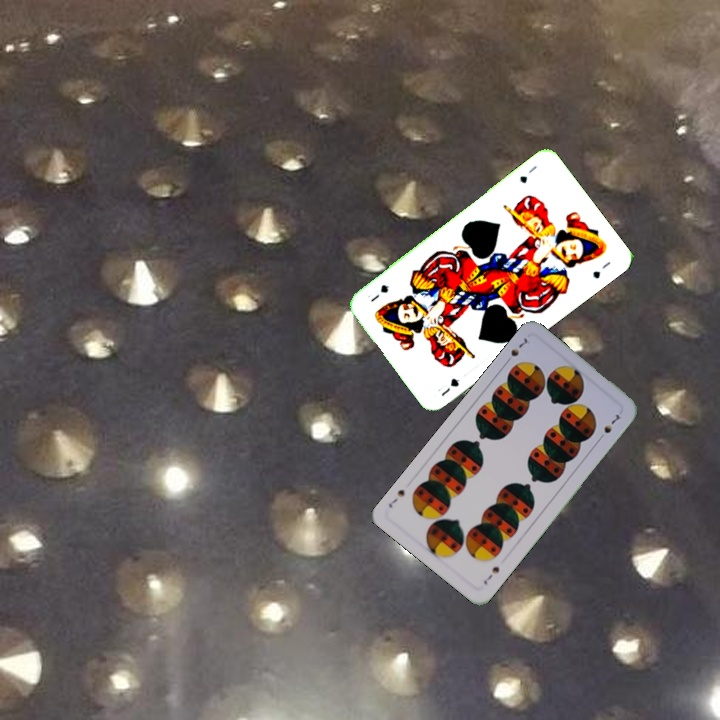GU: (433, 374, 462, 399), (515, 161, 539, 186)
S7: (501, 334, 530, 367), (479, 562, 502, 587)
